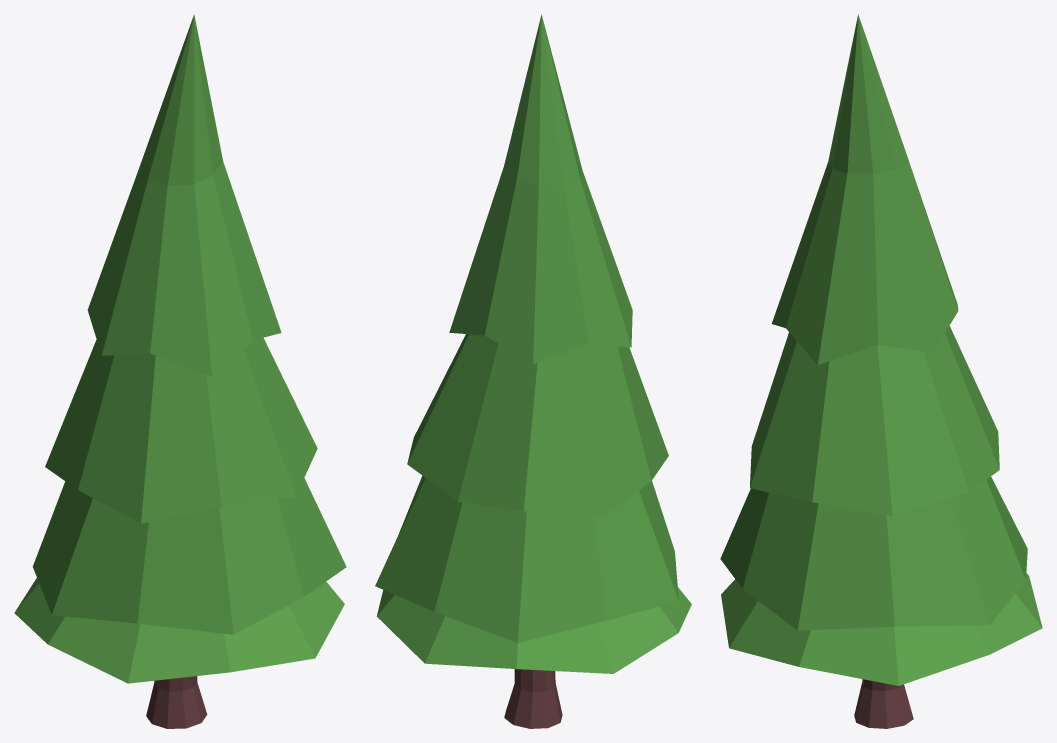
Rendered from tree-2.glb.
3 renders of one model, left to right at view 1: azimuth 30°, elevation 25°; view 2: azimuth 150°, elevation 25°; view 3: azimuth 270°, elevation 25°, orthographic. The views are drawn at different scales.
Visible parts, largest first — view 1: pine-tree-3.002; view 2: pine-tree-3.002; view 3: pine-tree-3.002.
Part boxes in pixels (<box>): pine-tree-3.002: <box>14,14,346,728</box>; pine-tree-3.002: <box>375,14,691,728</box>; pine-tree-3.002: <box>720,14,1042,728</box>.
Bounding box in the file's own units: 0.1482 × 0.3536 × 0.1461.
Materials: 1 (1 with a texture image).
